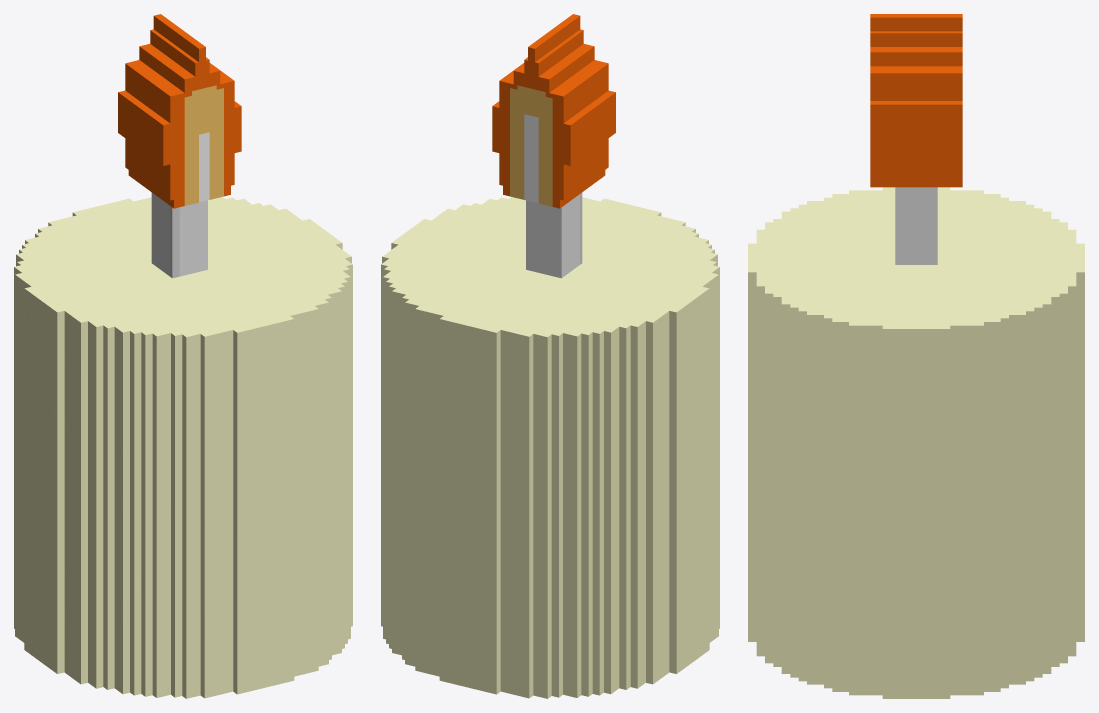
File: candle.glb
3 views of the same model, side by side, from view 1: azimuth 30°, elevation 25°; view 2: azimuth 150°, elevation 25°; view 3: azimuth 270°, elevation 25° (orthographic). The views are drawn at different scales.
Parts seen in each view (by area): view 1: Untitled; view 2: Untitled; view 3: Untitled.
Part boxes in pixels (x1=…): Untitled: x1=14, y1=14, x2=352, y2=698; Untitled: x1=381, y1=14, x2=719, y2=698; Untitled: x1=748, y1=14, x2=1084, y2=698.
Bounding box in the file's own units: 0.1 × 0.2 × 0.1.
Materials: 1 (1 with a texture image).
